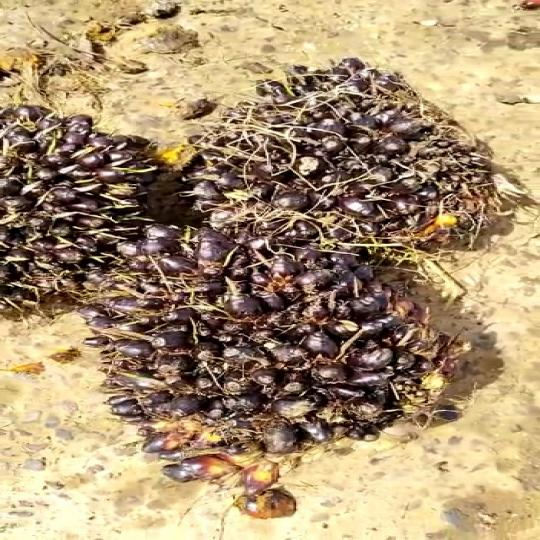mentah: (25, 213, 473, 488), (161, 67, 540, 255), (0, 93, 158, 314)
